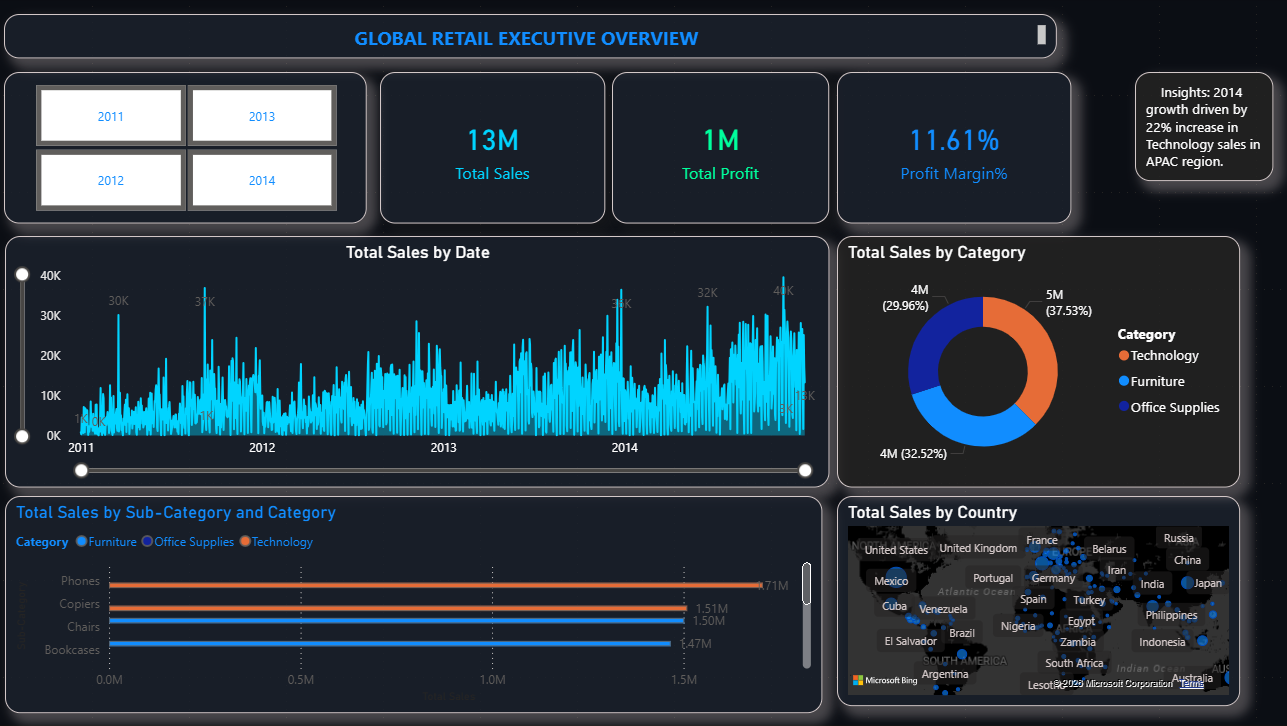

Layout of this report page (visuals, bound fields, positions):
{"tool":"powerbi","page":{"name":"Executive Summary","canvas":[1280,720],"ordinal":0},"visuals":[{"type":"card","fields":{"Values":["Dim_Date.TotalSales"]},"box":[381,73.2,222.7,150.4],"z":0},{"type":"card","fields":{"Values":["Dim_Date.TotalProfit"]},"box":[610.6,73.2,214.8,150.4],"z":1000},{"type":"lineChart","fields":{"Y":["Dim_Date.TotalSales"],"Category":["Dim_Date.Date"]},"box":[9.9,235.5,815.5,249.4],"z":2000},{"type":"slicer","fields":{"Values":["Dim_Date.Year"]},"box":[8.9,73.2,359.3,150.4],"z":3000},{"type":"textbox","box":[8.9,15.8,1042.1,43.5],"z":4000},{"type":"card","fields":{"Values":["Dim_Date.Profit Margin%"]},"box":[833.3,73.2,231.6,150.4],"z":5000},{"type":"map","fields":{"Size":["Dim_Date.TotalSales"],"Category":["Global Superstore.Country"]},"box":[833.3,492.9,398.8,207.8],"z":6000},{"type":"clusteredBarChart","fields":{"Category":["Global Superstore.Sub-Category"],"Y":["Dim_Date.TotalSales"],"Series":["Global Superstore.Category"]},"box":[9.9,492.9,808.6,214.8],"z":7000},{"type":"donutChart","fields":{"Y":["Dim_Date.Total Sales"],"Category":["Global Superstore.Category"]},"box":[833.3,235.5,398.8,249.4],"z":7001},{"type":"textbox","box":[1128.2,73.2,136.6,107.9],"z":7002}]}

Visuals, with their boxes in screenshot pixels (x1, y1, x2, y2), scaled from the page's 1280x720 canvas onto the 1287x726 screenshot:
card - Dim_Date.TotalSales: box=[383, 74, 607, 225]
card - Dim_Date.TotalProfit: box=[614, 74, 830, 225]
lineChart - Dim_Date.TotalSales x Dim_Date.Date: box=[10, 237, 830, 489]
slicer - Dim_Date.Year: box=[9, 74, 370, 225]
textbox: box=[9, 16, 1057, 60]
card - Dim_Date.Profit Margin%: box=[838, 74, 1071, 225]
map - Dim_Date.TotalSales x Global Superstore.Country: box=[838, 497, 1239, 707]
clusteredBarChart - Global Superstore.Sub-Category x Dim_Date.TotalSales: box=[10, 497, 823, 714]
donutChart - Dim_Date.Total Sales x Global Superstore.Category: box=[838, 237, 1239, 489]
textbox: box=[1134, 74, 1272, 183]
